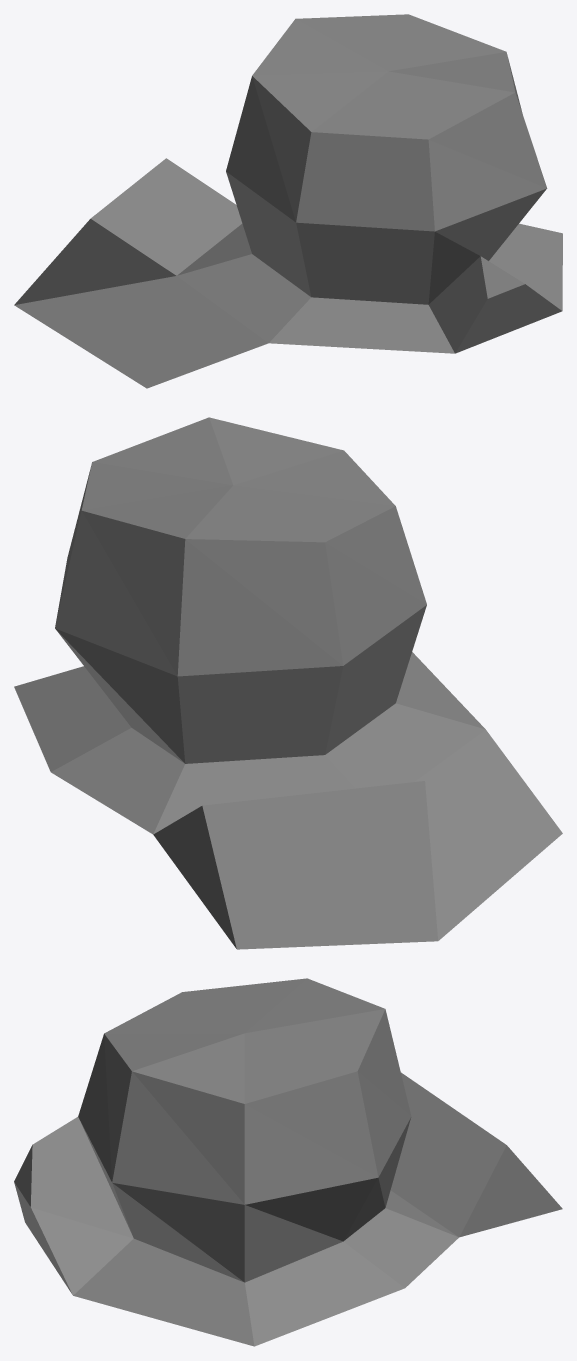
Rendered from Mesh_Rock6.fbx.
The picture shows the model from 3 angles, top to bottom: view 1: azimuth 30°, elevation 25°; view 2: azimuth 150°, elevation 25°; view 3: azimuth 270°, elevation 25°; orthographic projection. The views are drawn at different scales.
Visible parts, largest first — view 1: Mesh_Rock7; view 2: Mesh_Rock7; view 3: Mesh_Rock7.
Boxes of the visible parts, x1,y1,x2,y2 form: Mesh_Rock7: [14, 14, 562, 388]; Mesh_Rock7: [14, 417, 562, 949]; Mesh_Rock7: [14, 978, 562, 1346].
Bounding box in the file's own units: 5.31 × 2.82 × 5.28.
Materials: 1 (1 with a texture image).
